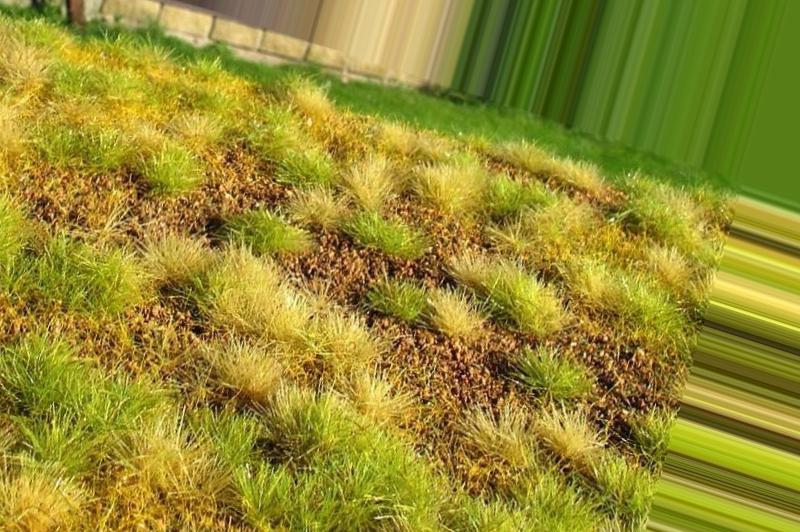patch: (407, 334, 497, 382), (588, 342, 650, 386), (324, 233, 360, 300), (233, 157, 278, 204), (182, 202, 219, 233)
